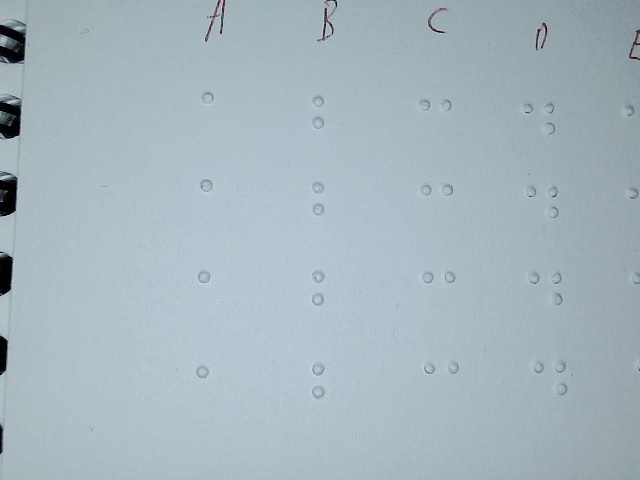A: (197, 88, 238, 155), (196, 174, 237, 241), (195, 267, 236, 334), (193, 359, 234, 426)
B: (308, 91, 349, 154), (309, 176, 350, 239), (309, 265, 350, 328), (309, 357, 350, 420)
C: (416, 93, 456, 156), (417, 179, 457, 242), (419, 267, 459, 330), (421, 358, 461, 421)
